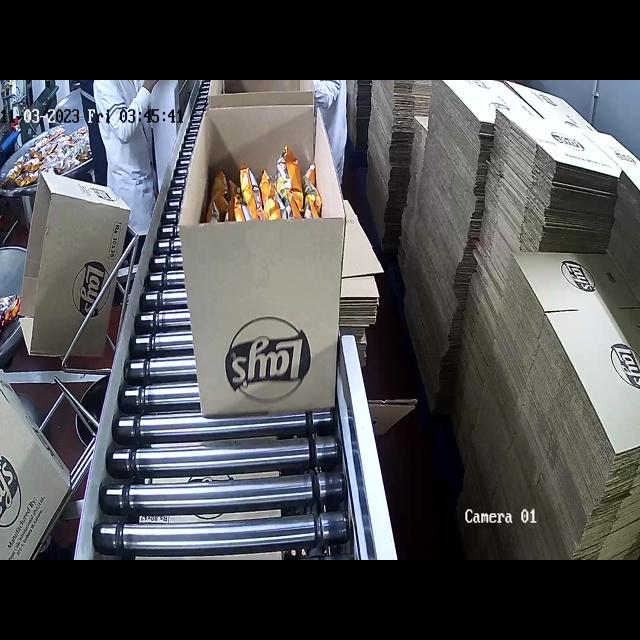cheese: (210, 157, 318, 233)
